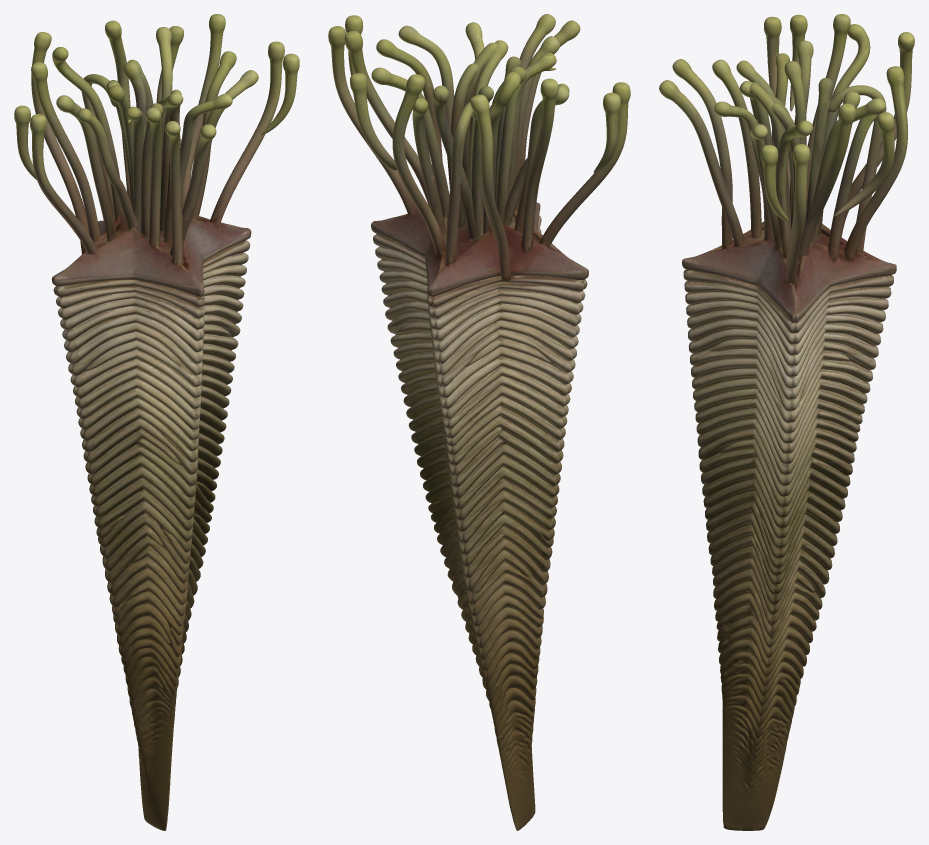
3 renders of one model, left to right at view 1: azimuth 30°, elevation 25°; view 2: azimuth 150°, elevation 25°; view 3: azimuth 270°, elevation 25°, orthographic. The views are drawn at different scales.
Visible parts, largest first — view 1: node_0; view 2: node_0; view 3: node_0.
Boxes of the visible parts, bbox=[...] form: node_0: bbox=[14, 14, 299, 830]; node_0: bbox=[328, 14, 630, 830]; node_0: bbox=[659, 14, 914, 830].
Bounding box in the file's own units: 0.1128 × 0.2999 × 0.0885.
Materials: 1 (1 with a texture image).
